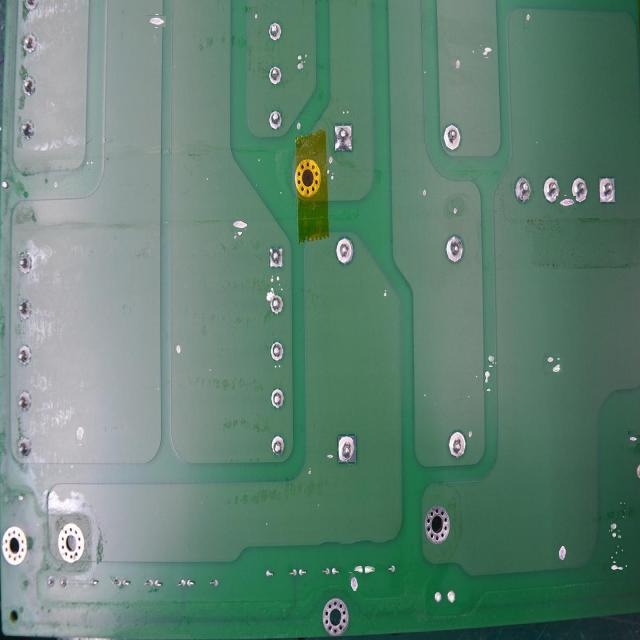spillover: (542, 355, 562, 374), (291, 53, 307, 74), (605, 560, 623, 578), (148, 12, 165, 29), (557, 194, 574, 211), (231, 218, 246, 234), (484, 367, 494, 391), (475, 45, 491, 60), (559, 543, 569, 565), (74, 426, 86, 444), (348, 571, 358, 592), (522, 8, 532, 29), (610, 518, 620, 538), (418, 184, 428, 200), (626, 433, 638, 445), (451, 55, 460, 70), (294, 119, 303, 134), (250, 9, 261, 21), (174, 343, 183, 356), (325, 453, 335, 462)
